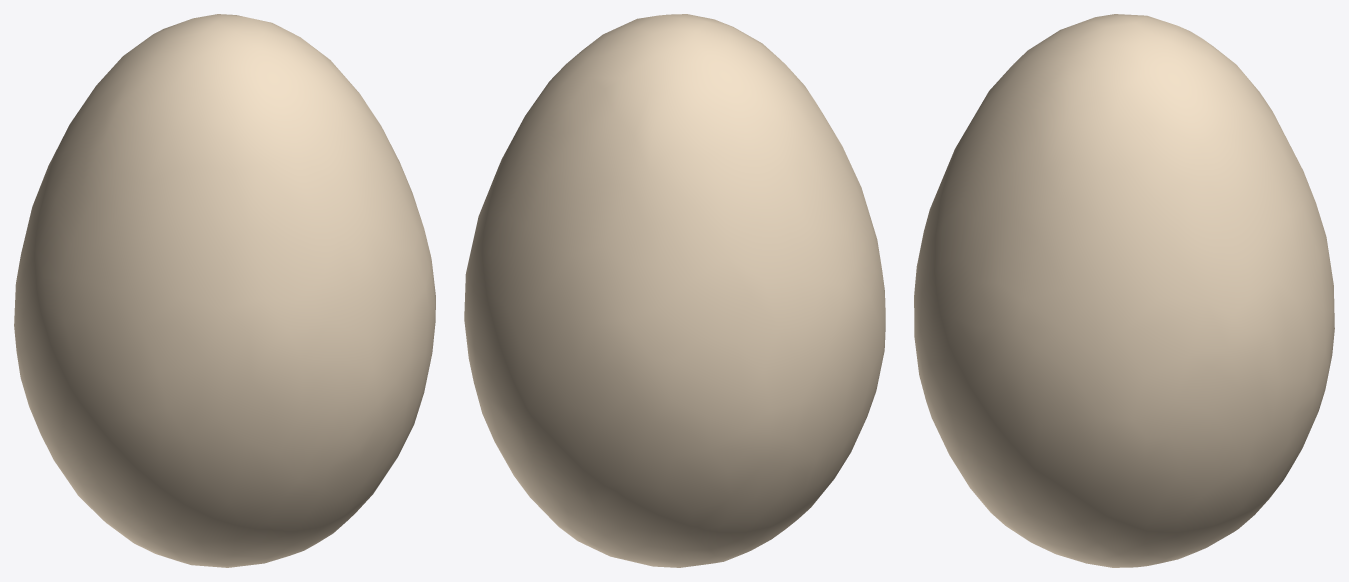
Rendered from item_egg.glb.
3 views of the same model, side by side, from view 1: azimuth 30°, elevation 25°; view 2: azimuth 150°, elevation 25°; view 3: azimuth 270°, elevation 25° (orthographic).
Parts seen in each view (by area): view 1: Chicken egg; view 2: Chicken egg; view 3: Chicken egg.
Part boxes in pixels (x1,y1,x2,y2): Chicken egg: (14, 14, 435, 567); Chicken egg: (464, 14, 885, 567); Chicken egg: (914, 14, 1334, 567).
Bounding box in the file's own units: 0.0415 × 0.057 × 0.0413.
